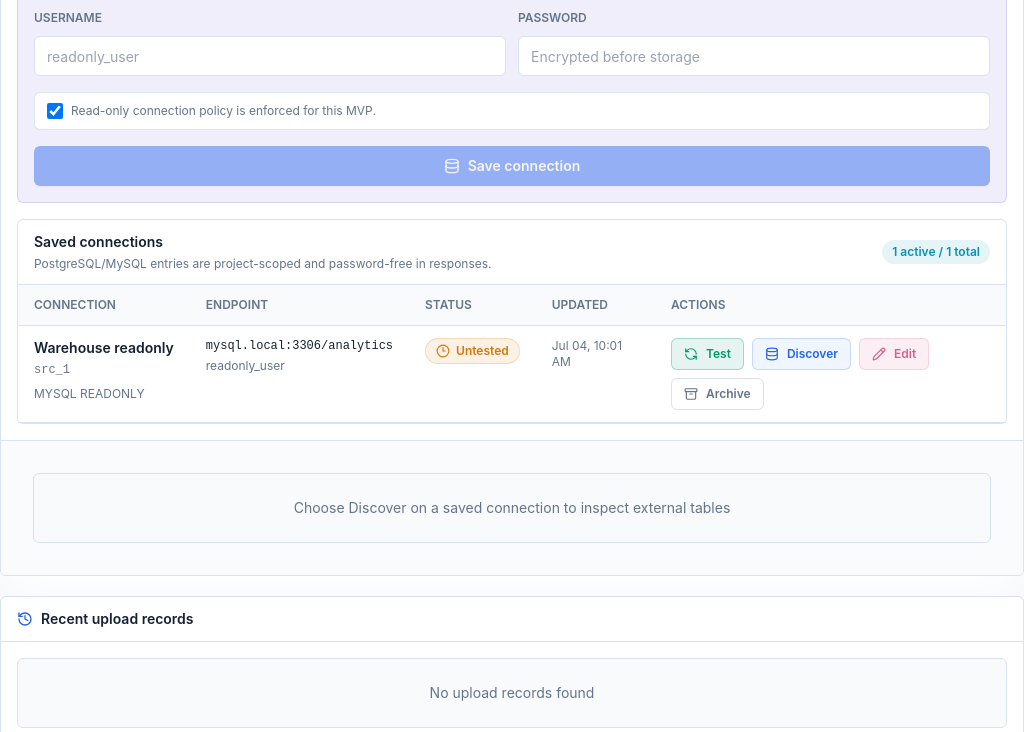
DataSourcesPage › updates, archives, and restores a saved connection
This screenshot has width=1024, height=732.
(page scrolled)
Expected: the text "Warehouse readonly" is shown, top-left (34, 338), bottom-right (174, 358)
Click the button "Edit" at (894, 354), box top-left (859, 338), bottom-right (929, 370)
(page scrolled)
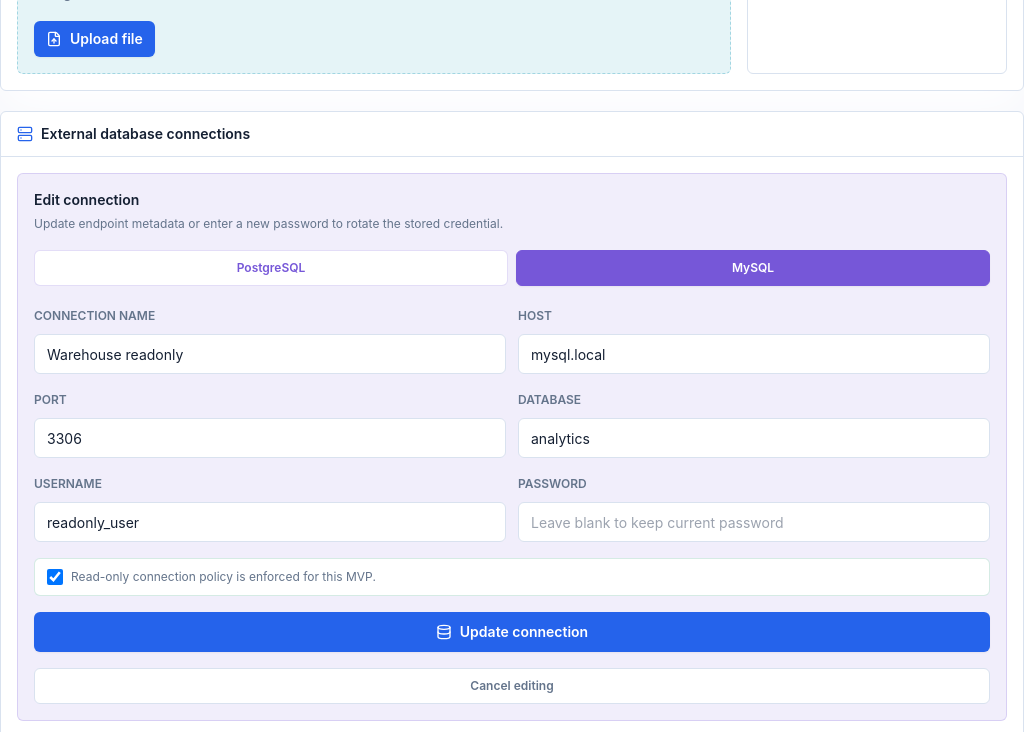
Replace the text in the field labelled "Host" with "warehouse-primary.local" at (754, 354), box top-left (518, 334), bottom-right (990, 374)
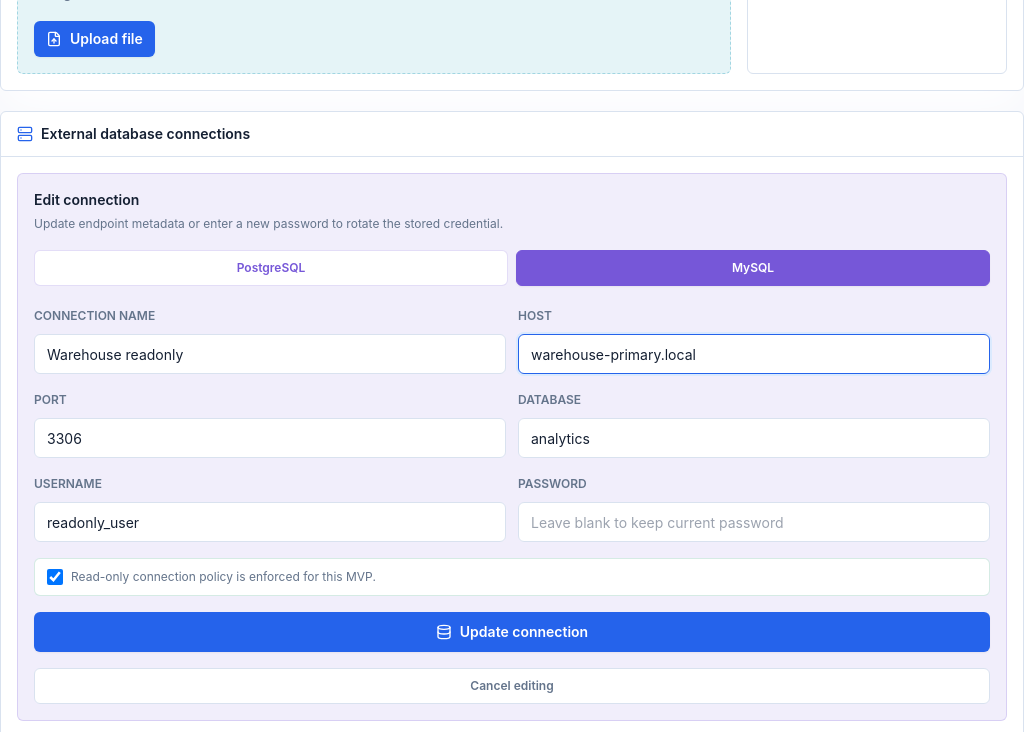
Click the button "Update connection" at (512, 632), box top-left (34, 612), bottom-right (990, 652)
(page scrolled)
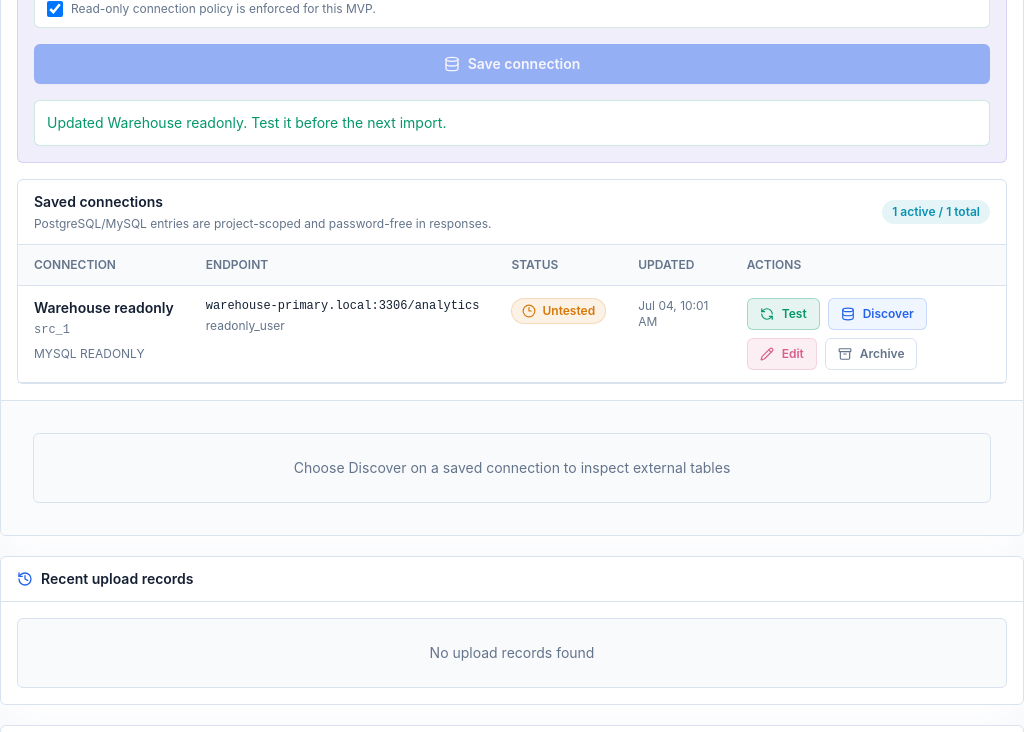
Result: the text "Updated Warehouse readonly. Test it before the next import." is shown at top-left (34, 100), bottom-right (990, 146)
Click the button "Archive" at (871, 354), box top-left (825, 338), bottom-right (918, 370)
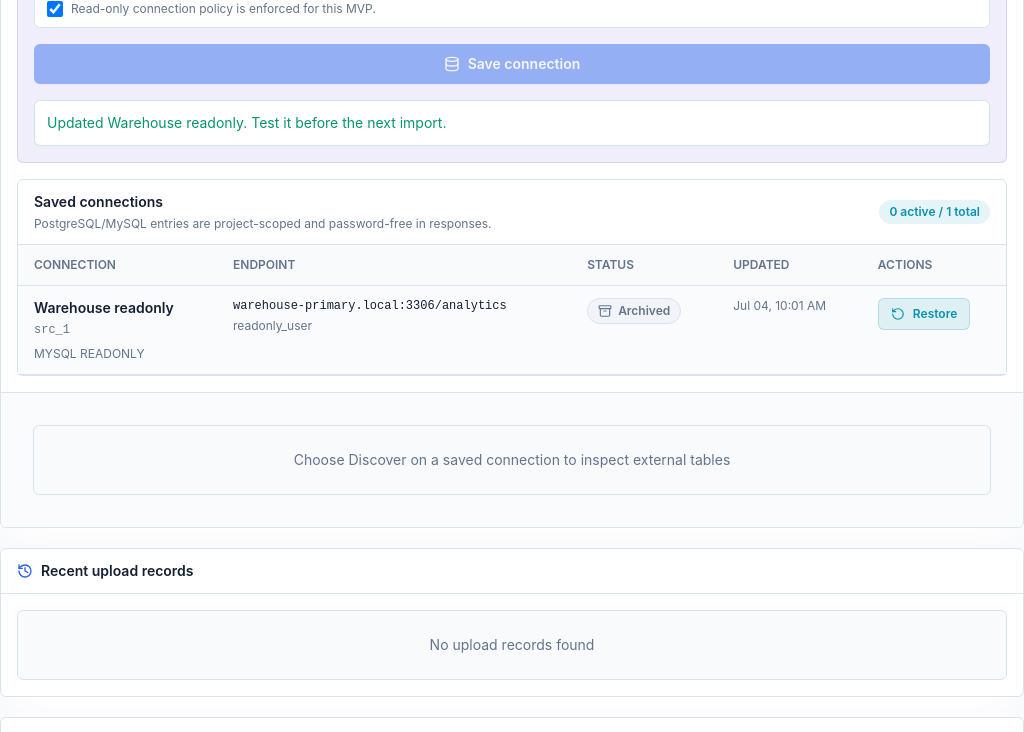
Result: the button "Restore" is shown
Click the button "Restore" at (924, 314), box top-left (878, 298), bottom-right (970, 330)
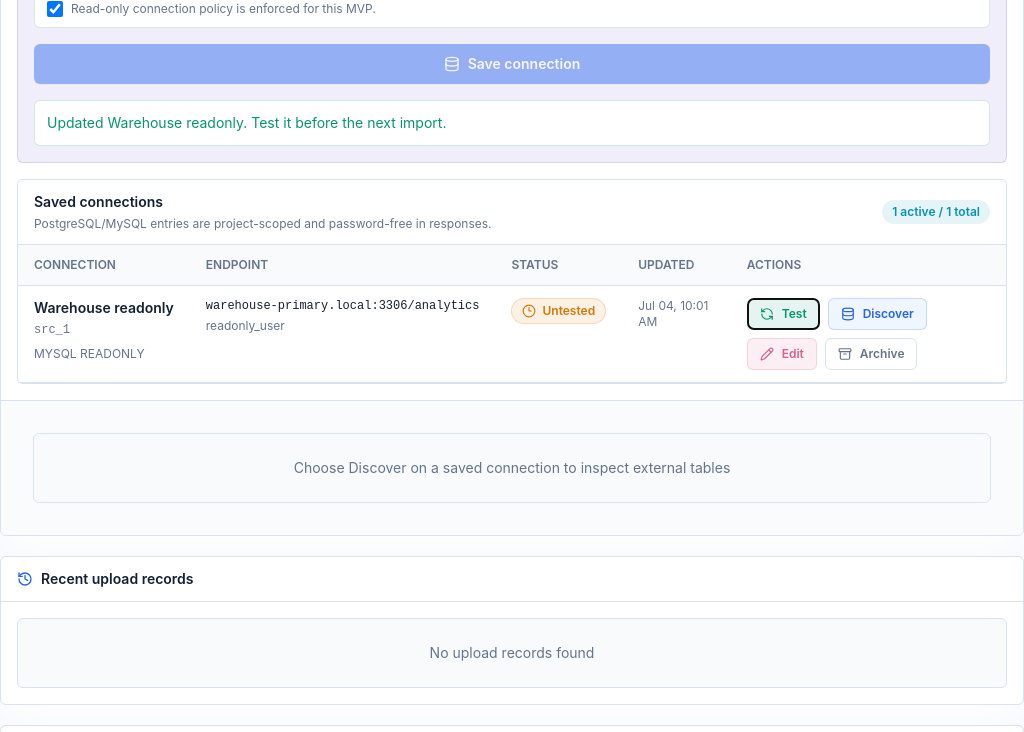
Result: the button "Edit" is shown at top-left (747, 338), bottom-right (817, 370)
